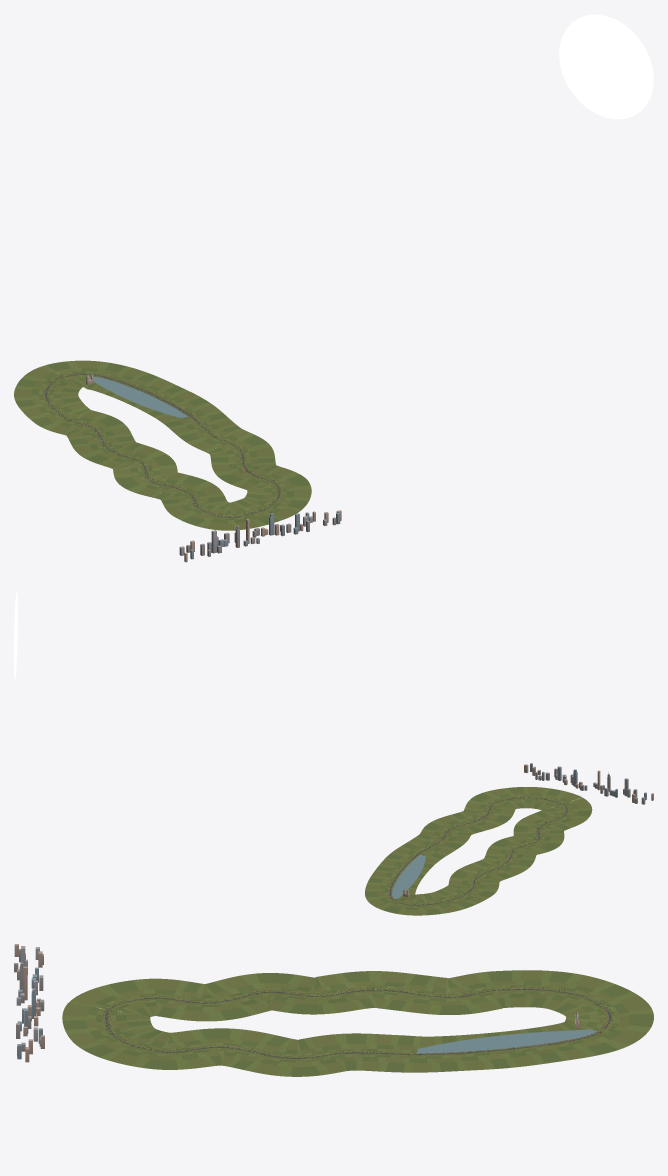
The model's file is centralpark.glb.
The picture shows the model from 3 angles, top to bottom: view 1: azimuth 30°, elevation 25°; view 2: azimuth 150°, elevation 25°; view 3: azimuth 270°, elevation 25°; orthographic projection. The views are drawn at different scales.
Visible parts, largest first — view 1: Sun, Peaks, Land_008, Land_011, Land_003, Land_001, Land_005, Land_006, Land_009, Land_012, Land_004, Land_010 (+4 smaller); view 2: Peaks, Land_010, Land_009, Land_002, Land_012, Land_004, Land_001, Land_005, Land_007, Land_011, Land_003, Land_006 (+3 smaller); view 3: Land_007, Land_003, Land_012, Land_008, Land_002, Land_010, Land_011, Land_009, Land_004, Land_006, Land_001, Land_005 (+3 smaller).
Boxes of the visible parts, box(x1,y1,x2,y2) form: Sun: box(559, 14, 653, 119); Peaks: box(86, 373, 341, 562); Land_008: box(14, 393, 90, 430); Land_011: box(113, 455, 184, 497); Land_003: box(179, 424, 273, 455); Land_001: box(242, 468, 311, 508); Land_005: box(113, 376, 202, 415); Land_006: box(73, 360, 155, 397); Land_009: box(51, 410, 133, 444); Land_012: box(155, 474, 227, 515); Land_004: box(151, 398, 235, 436); Land_010: box(71, 439, 167, 469); Peaks: box(403, 763, 653, 896); Land_010: box(479, 844, 536, 876); Land_009: box(448, 861, 512, 888); Land_002: box(444, 807, 514, 833); Land_012: box(513, 810, 585, 833); Land_004: box(387, 837, 457, 865); Land_001: box(465, 787, 526, 811); Land_005: box(370, 856, 432, 884); Land_007: box(378, 892, 455, 915); Land_011: box(493, 832, 564, 854); Land_003: box(416, 817, 473, 848); Land_006: box(365, 878, 418, 908); Land_007: box(549, 977, 653, 1031); Land_003: box(260, 1033, 364, 1076); Land_012: box(150, 978, 258, 1021); Land_008: box(471, 970, 594, 1008); Land_002: box(180, 1028, 293, 1073); Land_010: box(315, 971, 415, 1014); Land_011: box(214, 973, 319, 1014); Land_009: box(390, 974, 501, 1014); Land_004: box(360, 1033, 455, 1072); Land_006: box(524, 1019, 648, 1062); Land_001: box(83, 1028, 209, 1069); Land_005: box(445, 1029, 548, 1071).
Size of the model in its own units: 5506 by 2085 by 3495.
